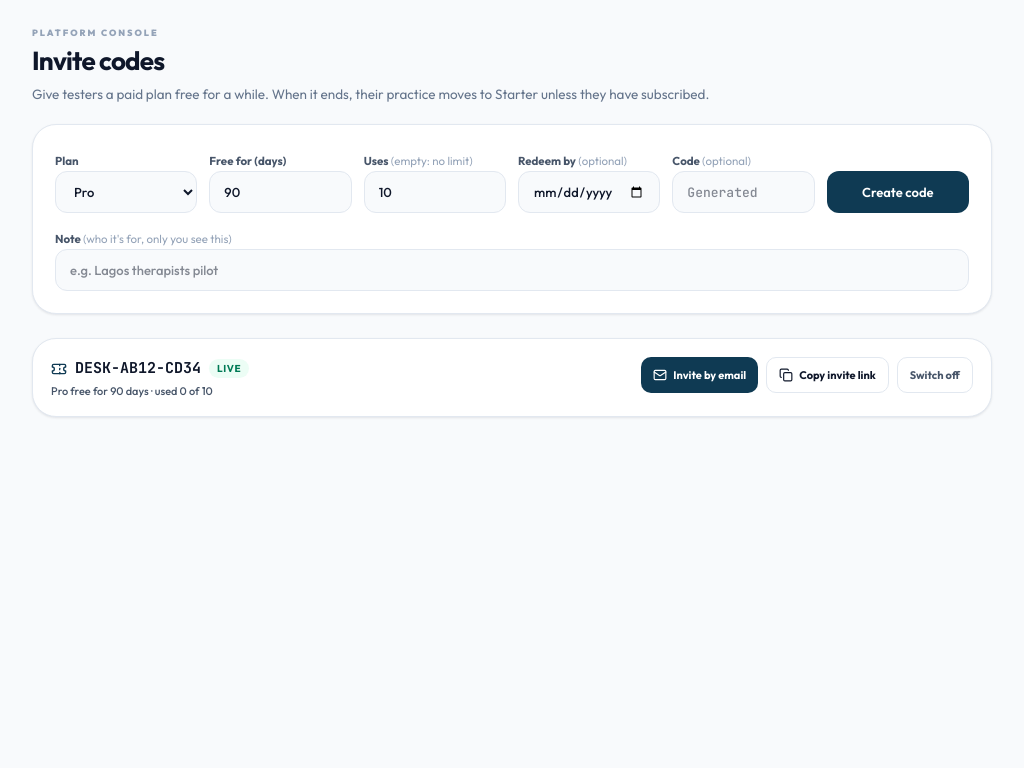
AdminInvitesPage: invite by email › keeps the form open and shows why when sending fails
The width and height of the screenshot is (1024, 768).
Click the button "Invite by email": (700, 375) [641, 357, 758, 393]
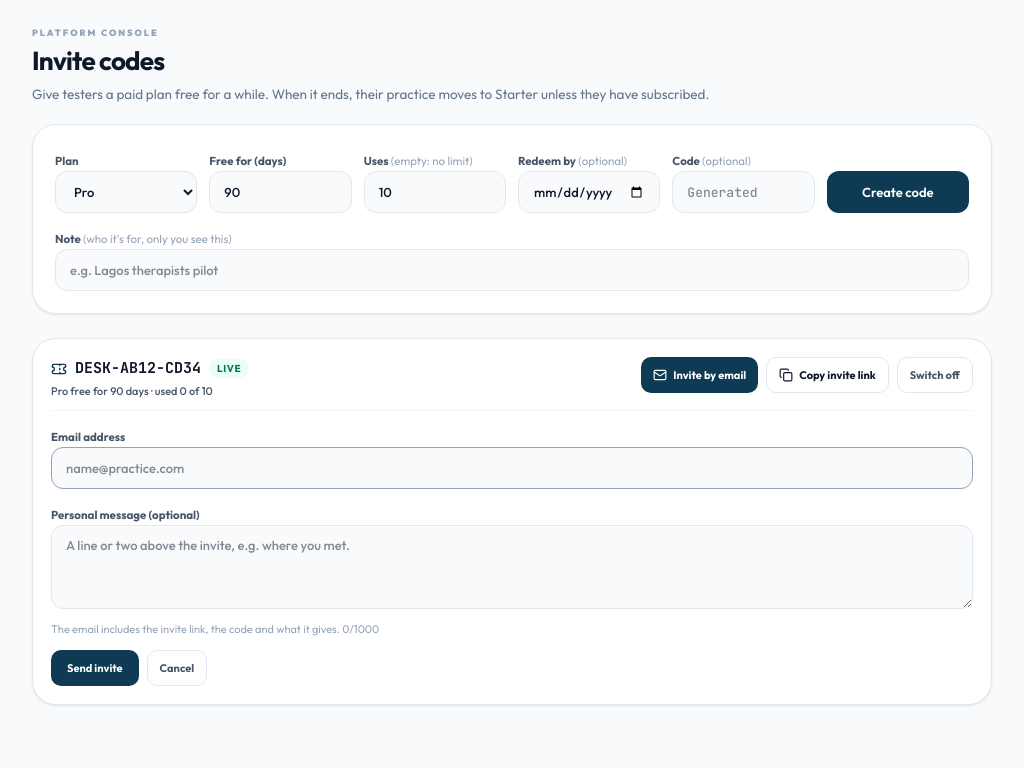
In the field labelled "Email address": (512, 468) [51, 447, 973, 489], type "ada@calm.ng"
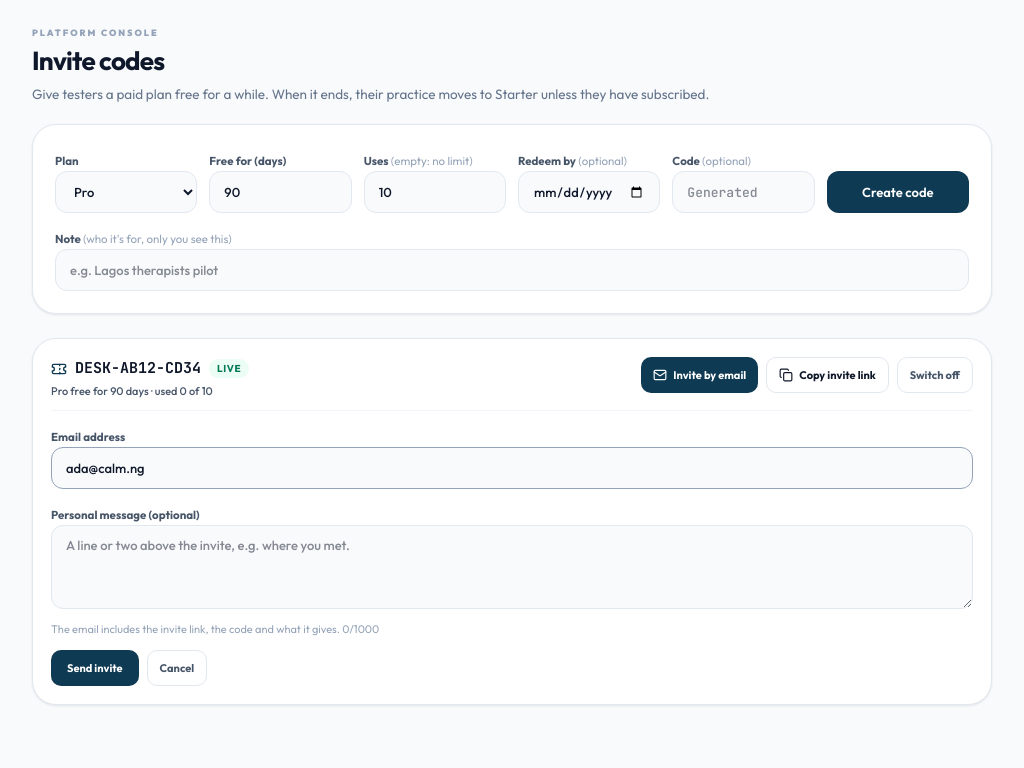
Click the button "Send invite": (95, 668) [51, 650, 139, 686]
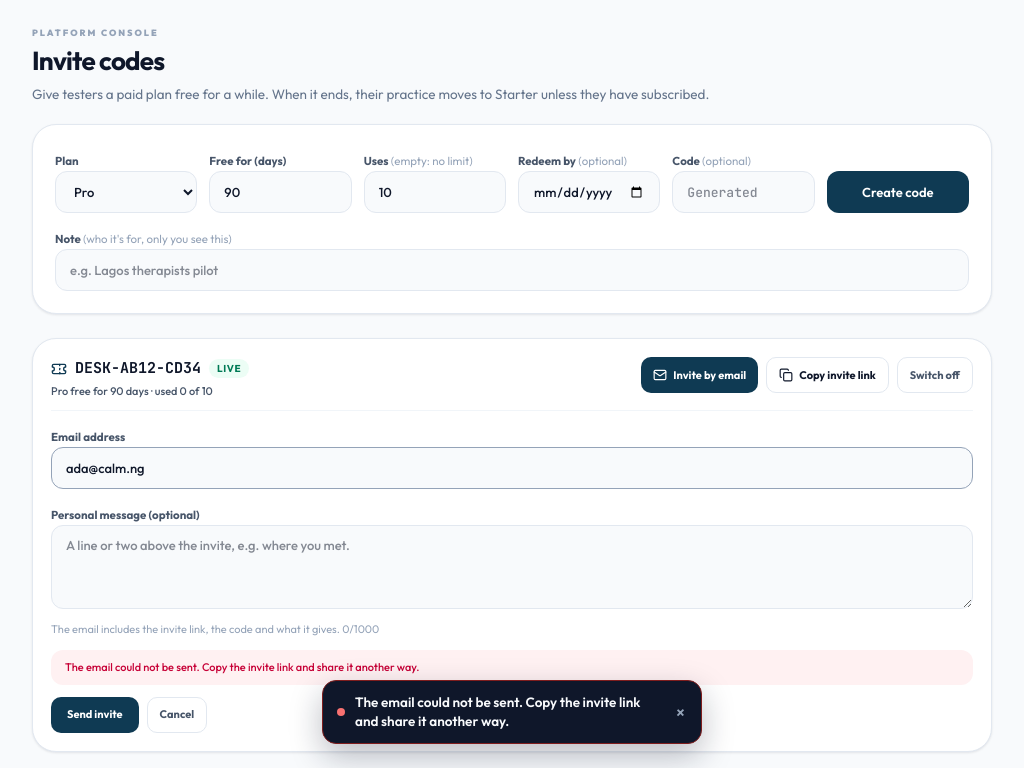
Check: the text "The email could not be sent. Copy the invite link and share it another way." is shown, box [51, 650, 973, 685]
